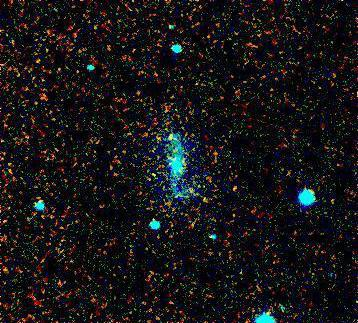star: (155, 123, 185, 153)
